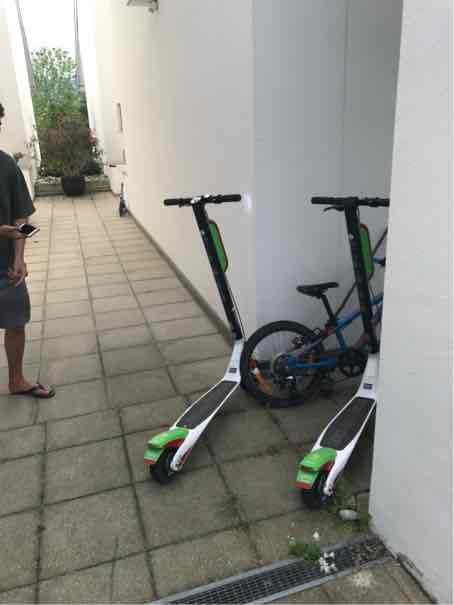scooter: (141, 186, 265, 490), (291, 184, 399, 519)
